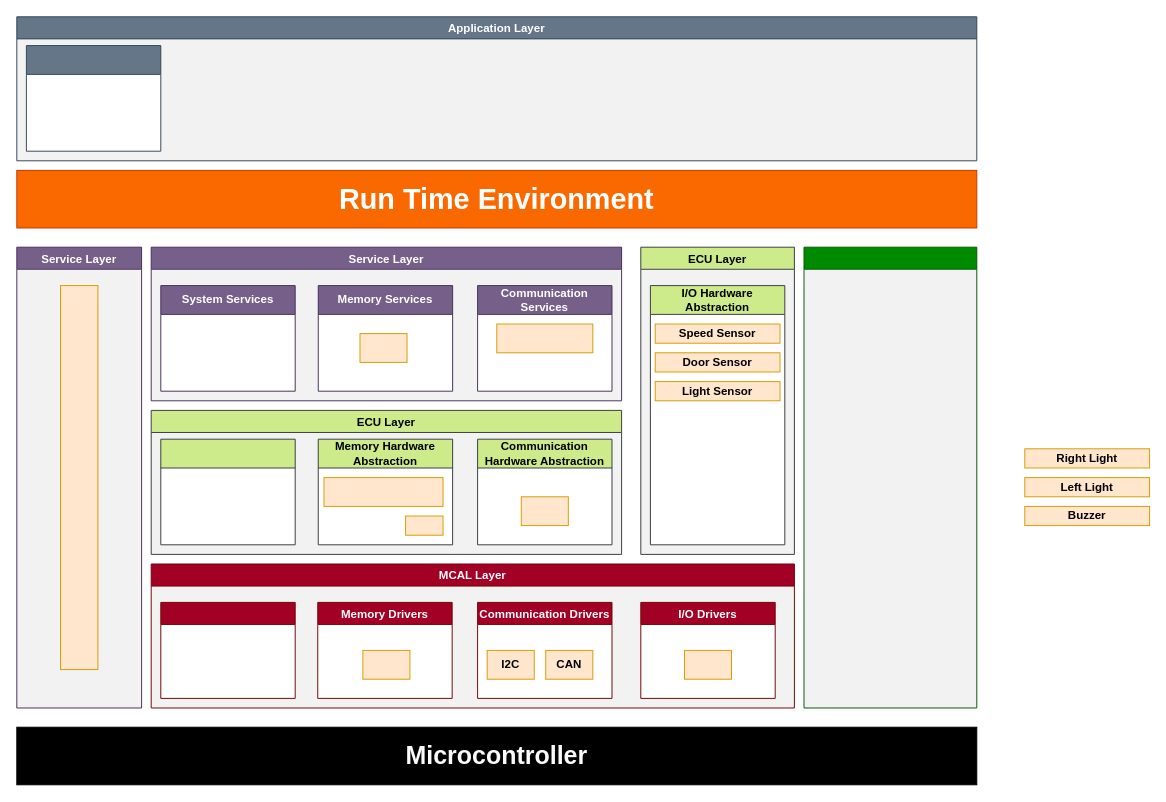
Some shapes in this 1166 by 802 pixel diagram are drawn without their labels. Here are the shapes that lost their labels. From the top down, the centre of each, then its label:
(93,98): Software Component
(383,347): NVM
(544,338): COM
(79,477): AUTOSAR OS
(227,491): Onboard Device Abstraction
(383,491): memif
(890,477): Complex Drivers
(424,525): Fee
(544,511): CANIF
(227,649): Microcontroller Drivers
(386,664): Fls
(708,664): DIO
